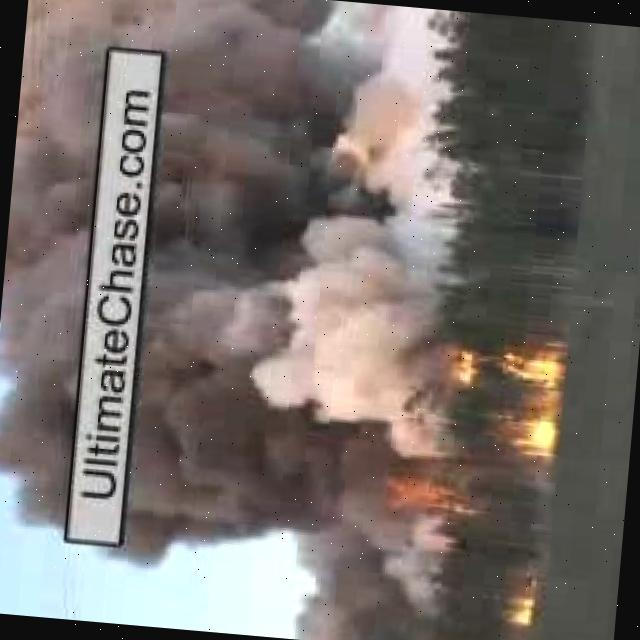fire: (487, 336, 565, 451), (376, 466, 458, 518), (443, 341, 481, 391), (504, 584, 540, 624)
